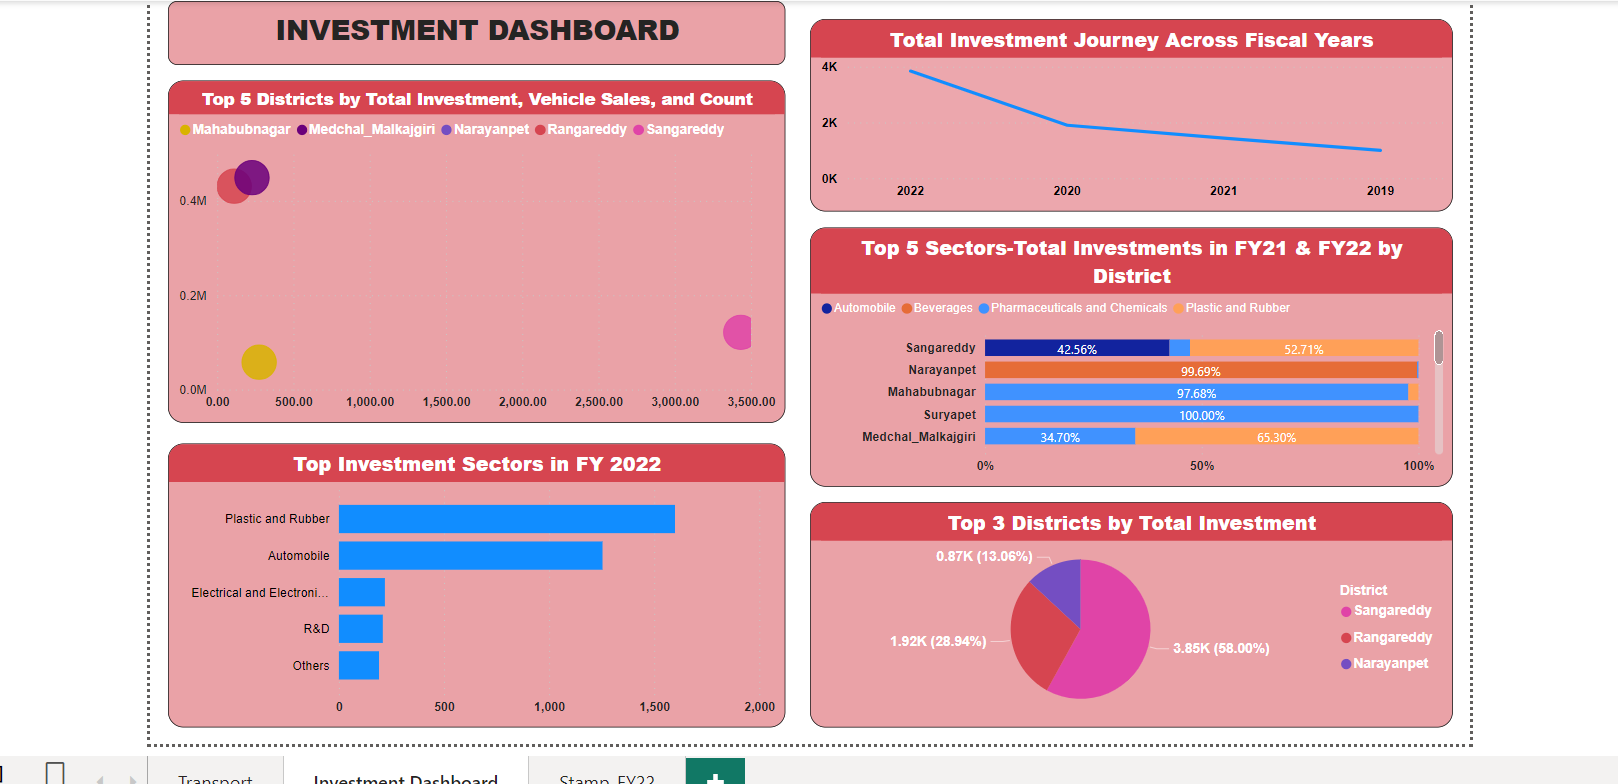

The page's visual inventory and layout, read from the dashboard file:
{"tool":"powerbi","page":{"name":"Investment Dashboard","canvas":[1280,720],"ordinal":2},"visuals":[{"type":"barChart","title":"Top Investment Sectors in FY 2022","fields":{"Category":["fact_TS_iPASS.sector"],"Y":["Key_Measures.TotalInvestment"]},"box":[17,428.6,598.5,275.6],"z":0},{"type":"pieChart","title":"Top 3 Districts by Total Investment","fields":{"Category":["dim_districts.district"],"Y":["Key_Measures.TotalInvestment"]},"box":[640,485.2,623,219],"z":1},{"type":"hundredPercentStackedBarChart","title":"Top 5 Sectors-Total Investments in FY21 & FY22 by District","fields":{"Category":["dim_districts.district"],"Series":["fact_TS_iPASS.sector"],"Y":["Key_Measures.Total Investment FY21 & FY22"]},"box":[640,219,623,251.1],"z":2},{"type":"scatterChart","title":"Top 5 Districts by Total Investment, Vehicle Sales, and Count","fields":{"X":["Key_Measures.TotalInvestment"],"Y":["Key_Measures.TotalVehiclesSalesbyClass"],"Series":["dim_districts.district"],"Size":["CountNonNull(dim_districts.district)"]},"box":[17,77.4,598.5,332.3],"z":3},{"type":"lineChart","title":"Total Investment Journey Across Fiscal Years","fields":{"Category":["dim_date.fiscal_year"],"Y":["Key_Measures.TotalInvestment"]},"box":[640,17,623,186.9],"z":4},{"type":"textbox","box":[17,0,598.5,62.3],"z":5}]}

Visuals, with their boxes in screenshot pixels (x1, y1, x2, y2):
"Top Investment Sectors in FY 2022" barChart: <box>161,456,781,742</box>
"Top 3 Districts by Total Investment" pieChart: <box>806,515,1451,742</box>
"Top 5 Sectors-Total Investments in FY21 & FY22 by District" hundredPercentStackedBarChart: <box>806,239,1451,499</box>
"Top 5 Districts by Total Investment, Vehicle Sales, and Count" scatterChart: <box>161,93,781,437</box>
"Total Investment Journey Across Fiscal Years" lineChart: <box>806,30,1451,224</box>
textbox: <box>161,13,781,77</box>
